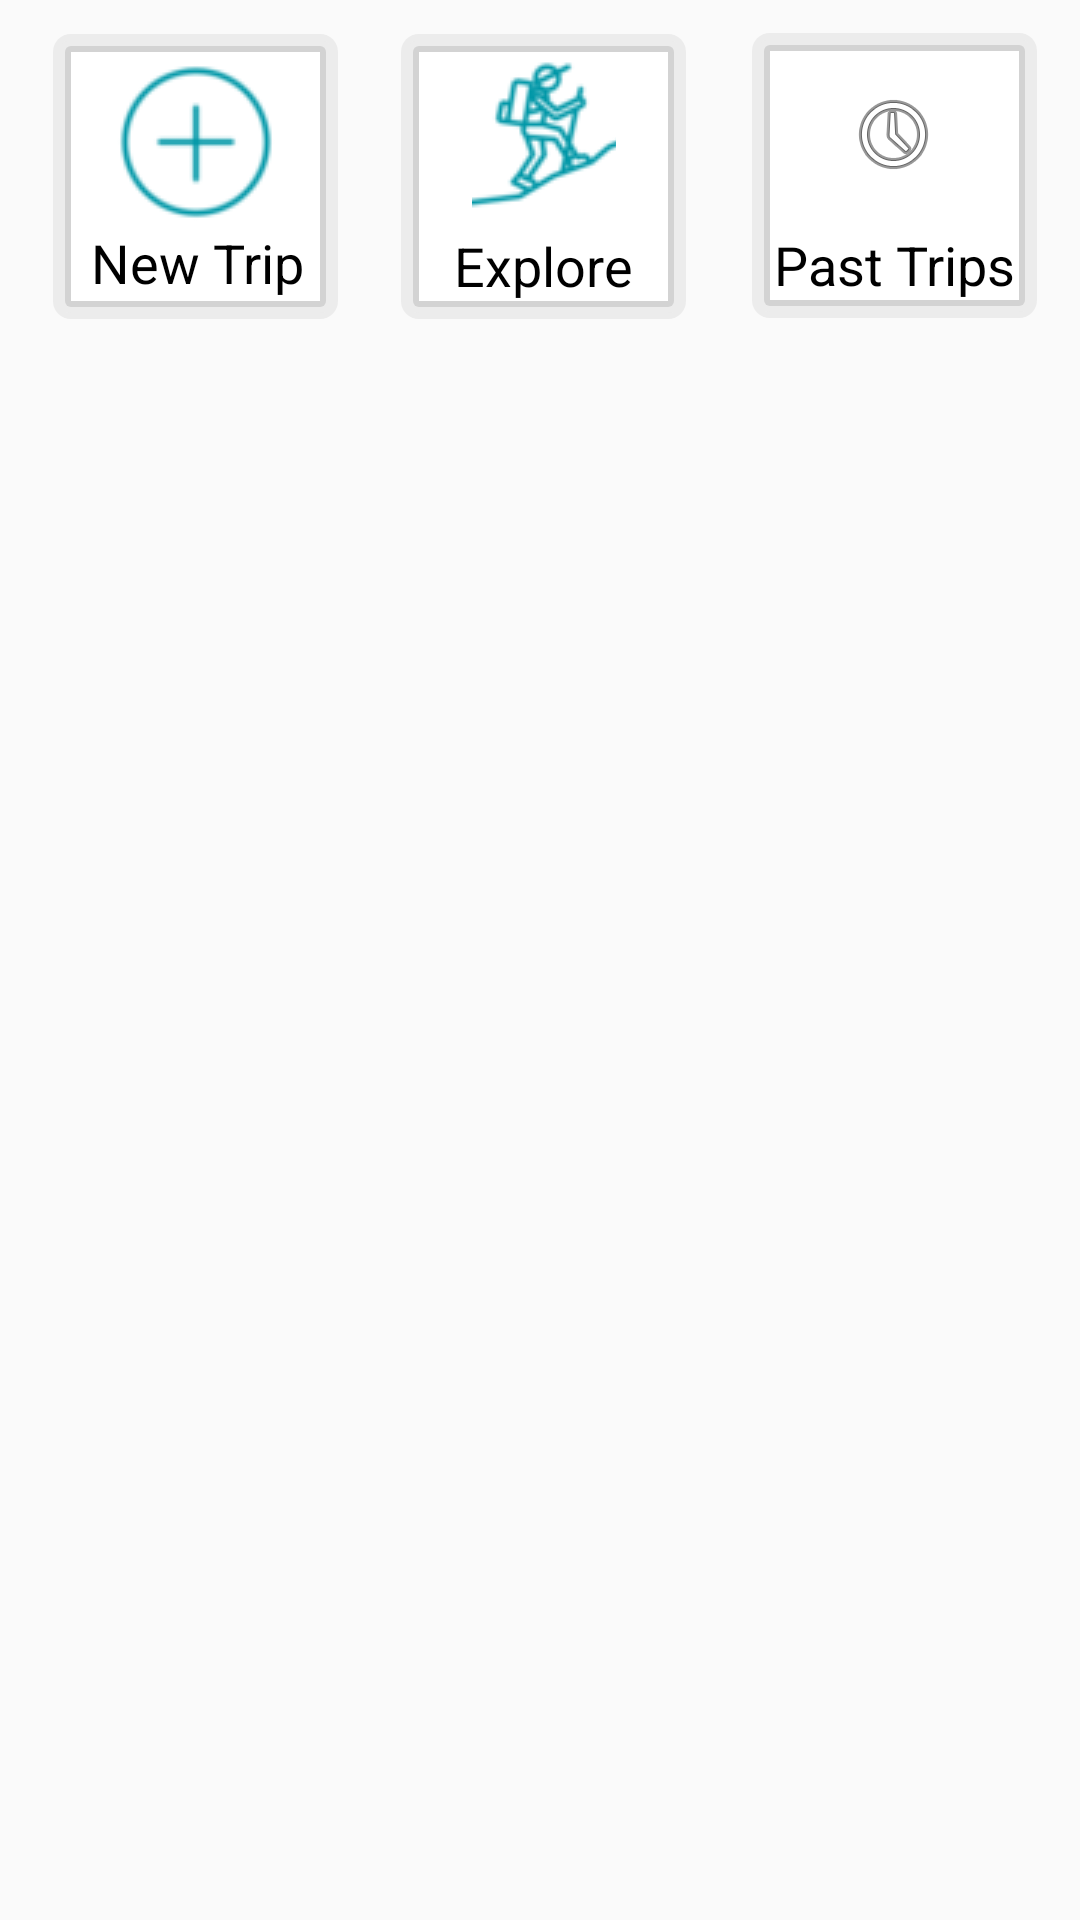

Point at icon controls on the screen. Image size 1080*1920, points as (x,y).
plus: (196,142)
recent history: (893,134)
